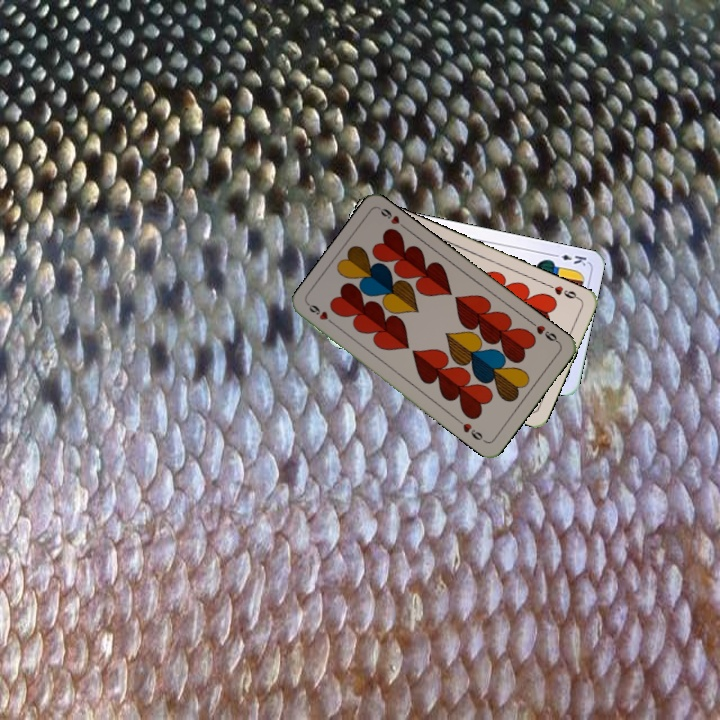EK: (549, 250, 589, 268)
H9: (527, 317, 562, 346), (304, 300, 339, 329), (544, 280, 582, 302)
